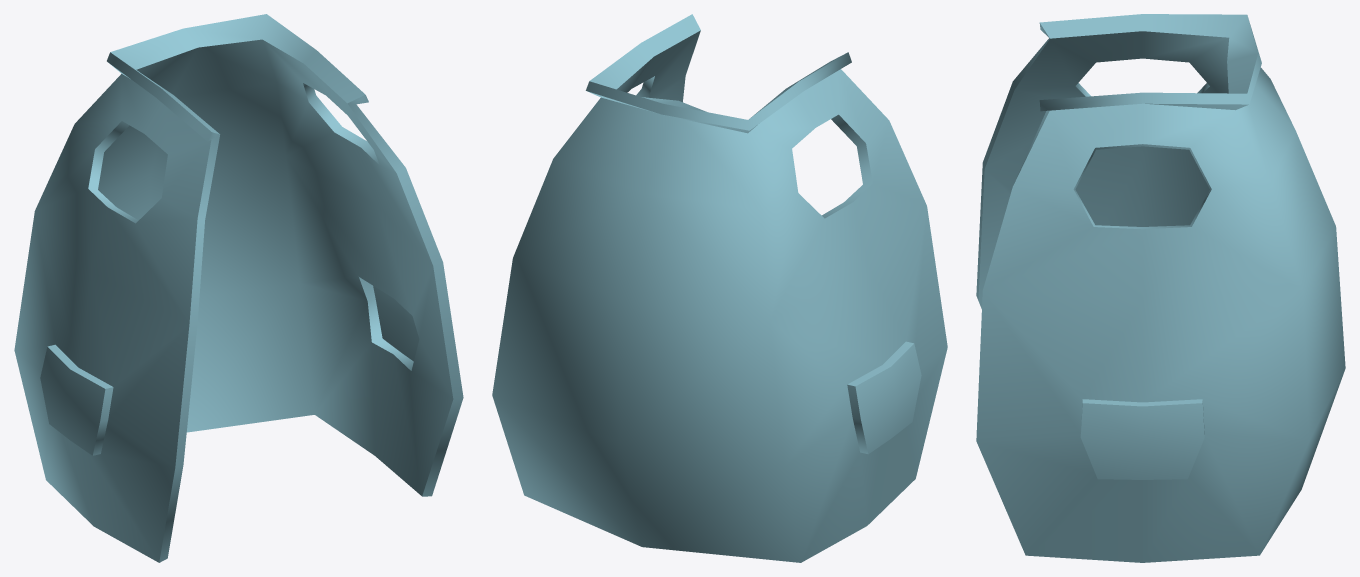
Rendered from colete.fbx.
The picture shows the model from 3 angles, left to right: view 1: azimuth 30°, elevation 25°; view 2: azimuth 150°, elevation 25°; view 3: azimuth 270°, elevation 25°; orthographic projection. The views are drawn at different scales.
Parts seen in each view (by area): view 1: colete; view 2: colete; view 3: colete.
Part boxes in pixels (left/top/right/bottom): colete: left=14, top=14, right=463, bottom=562; colete: left=492, top=14, right=947, bottom=562; colete: left=976, top=14, right=1345, bottom=562.
Bounding box in the file's own units: 37.24 × 42.94 × 32.93.
